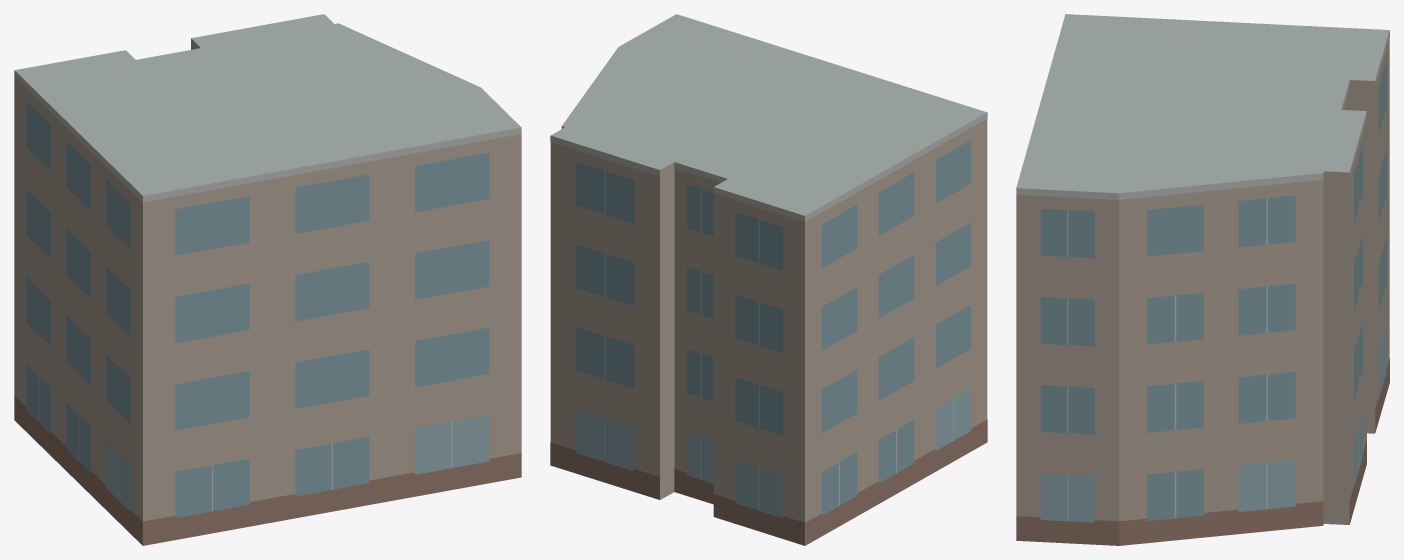
File: survey-upis-32618974.glb
3 renders of one model, left to right at view 1: azimuth 30°, elevation 25°; view 2: azimuth 150°, elevation 25°; view 3: azimuth 270°, elevation 25°, orthographic. The views are drawn at different scales.
Parts seen in each view (by area): view 1: survey-upis-32618974.tmp; view 2: survey-upis-32618974.tmp; view 3: survey-upis-32618974.tmp.
Part boxes in pixels (<box>): survey-upis-32618974.tmp: <box>14,14,521,545</box>; survey-upis-32618974.tmp: <box>550,14,987,545</box>; survey-upis-32618974.tmp: <box>1016,14,1389,545</box>.
Size of the model in its own units: 14.08 by 12.9 by 12.4.
